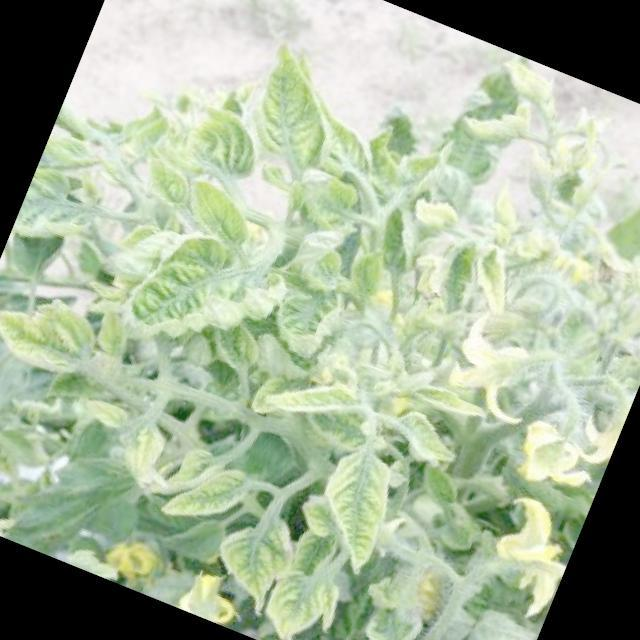Tomato yellow virus leaf: (124, 216, 294, 368), (236, 41, 358, 182), (300, 439, 408, 575), (200, 504, 306, 622), (0, 273, 109, 385), (10, 154, 119, 264), (294, 94, 390, 188), (167, 168, 266, 258), (159, 448, 255, 537), (254, 556, 348, 640), (265, 272, 349, 366), (262, 360, 362, 437), (182, 103, 266, 187), (454, 230, 530, 316), (285, 216, 359, 296), (287, 165, 367, 237), (404, 371, 494, 432), (388, 128, 458, 205), (388, 405, 466, 471), (341, 237, 396, 308), (123, 417, 173, 485)
